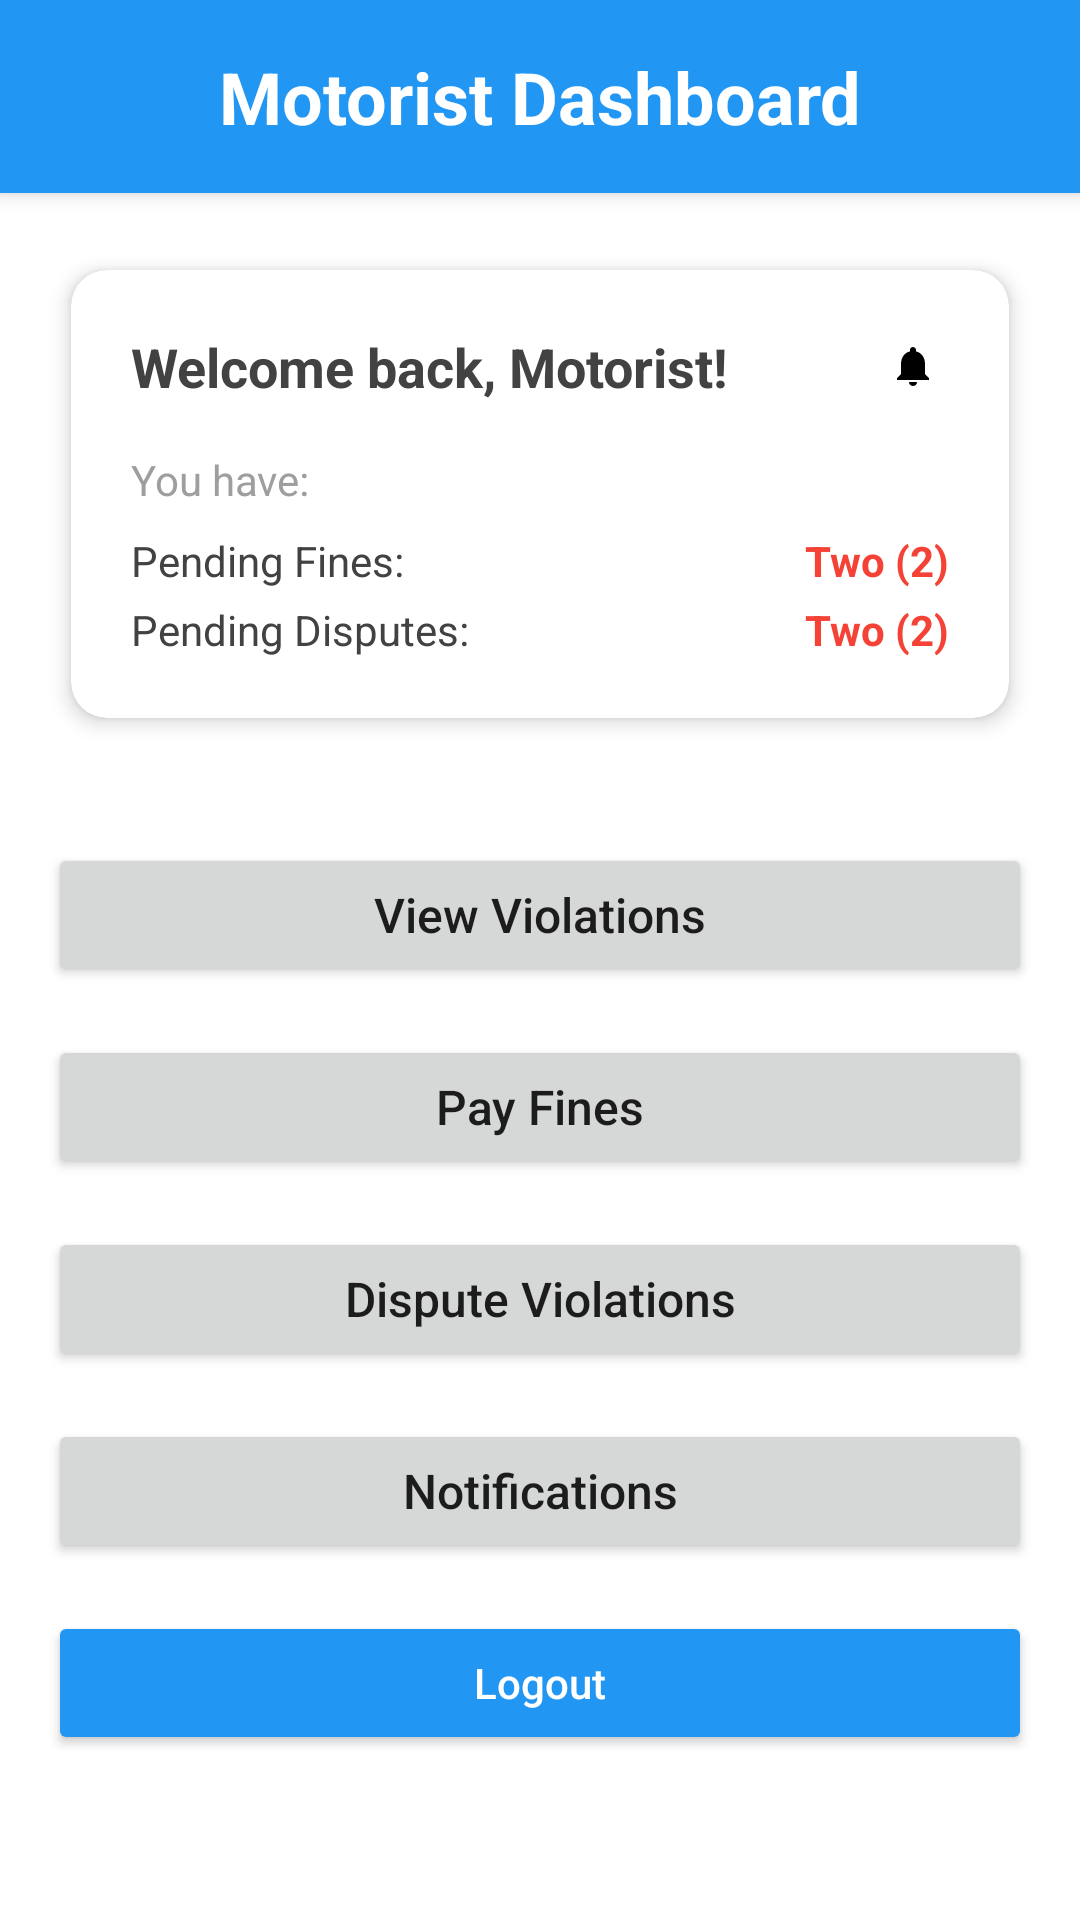

Icon bounding boxes for this 1080*1920 phone screenshot, format (x1, y1, x2, y2):
notifications: (897, 347, 929, 386)
